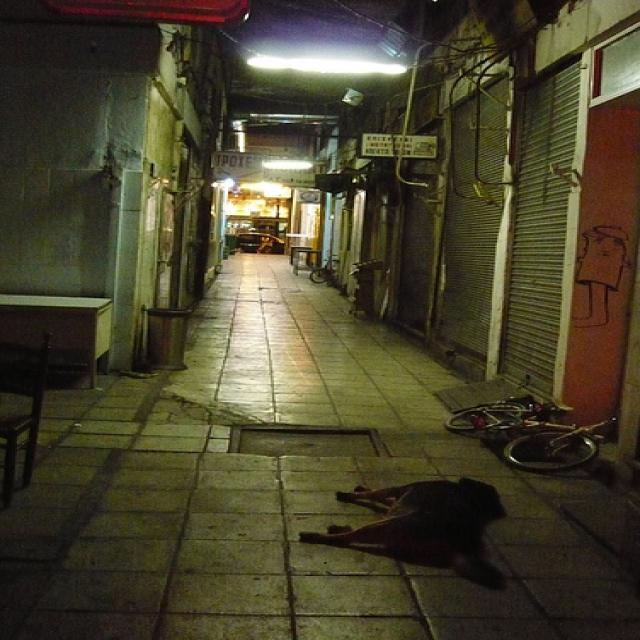Vehicle: (235, 233, 285, 253)
